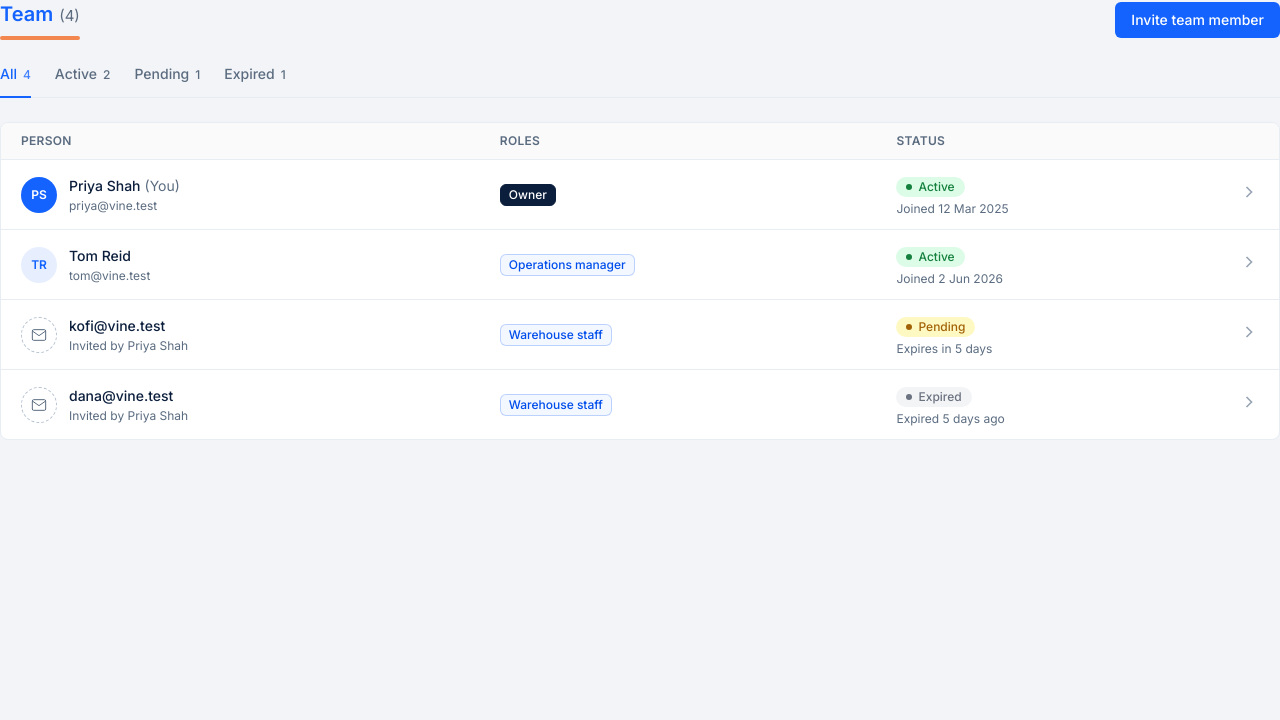
Test case: Team page › invites someone from the header button, and shows them straight away as pending
Click the button "Invite team member": (1198, 20) [1115,2,1279,38]
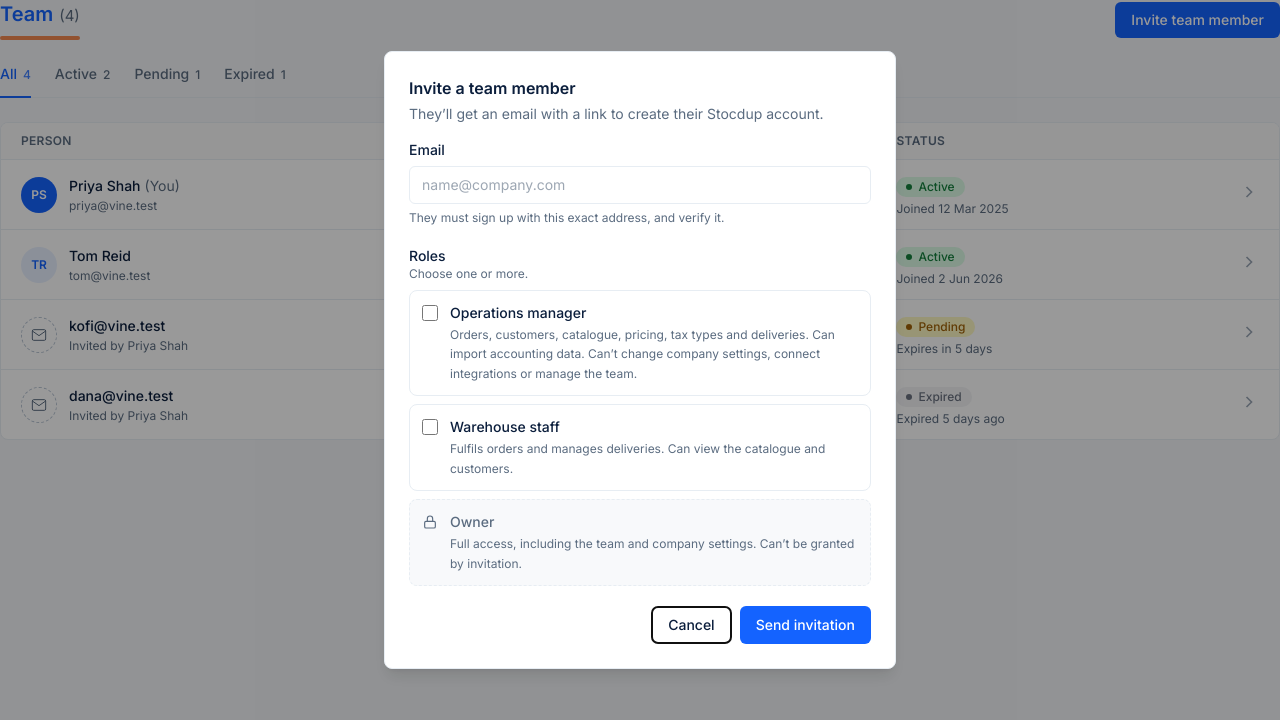
In the field labelled "Email": (640, 185) [409,166,871,204], type "sam@vine.test"
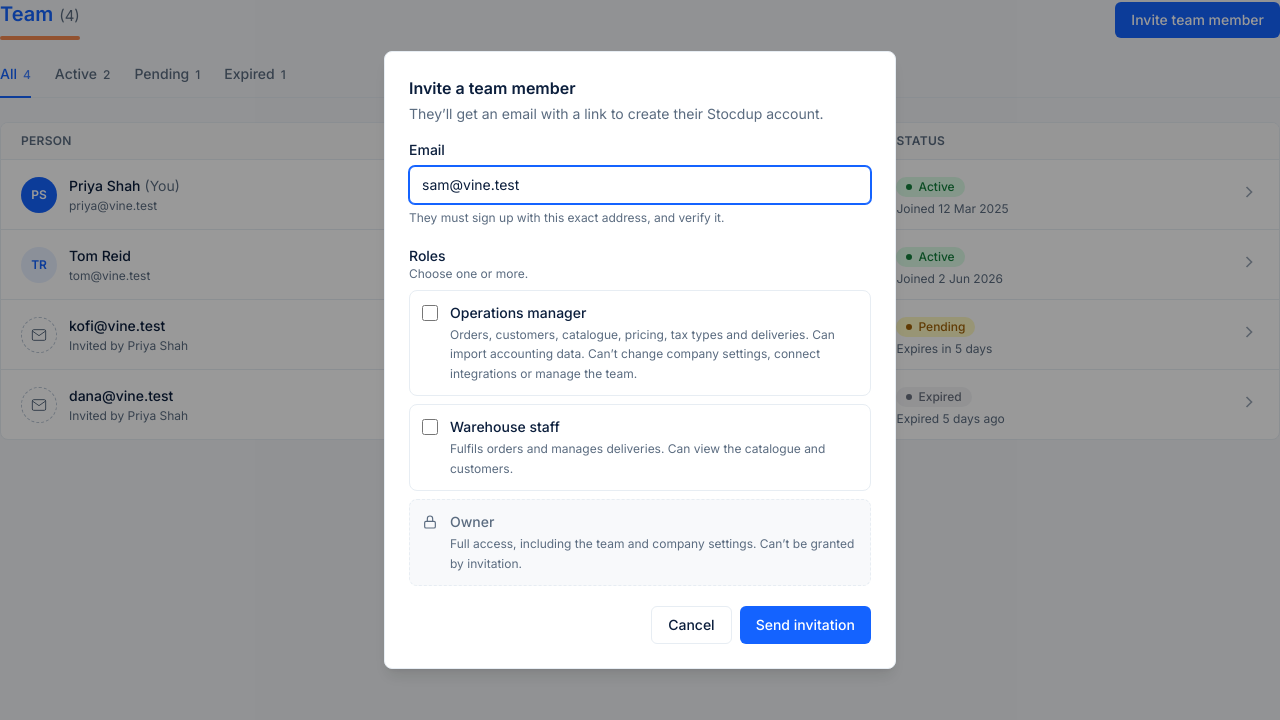
Click the checkbox labelled "Operations manager": (430, 313) [422,305,438,321]
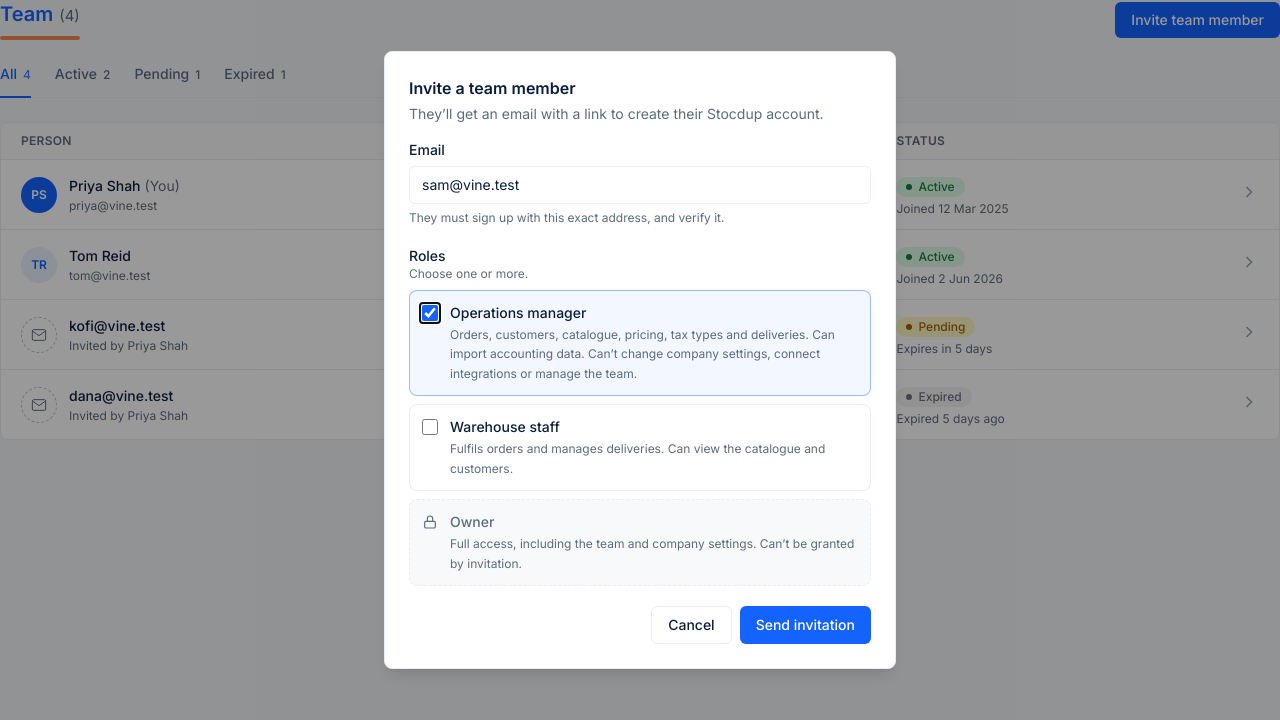
Click the button "Send invitation": (805, 625) [740,606,871,644]
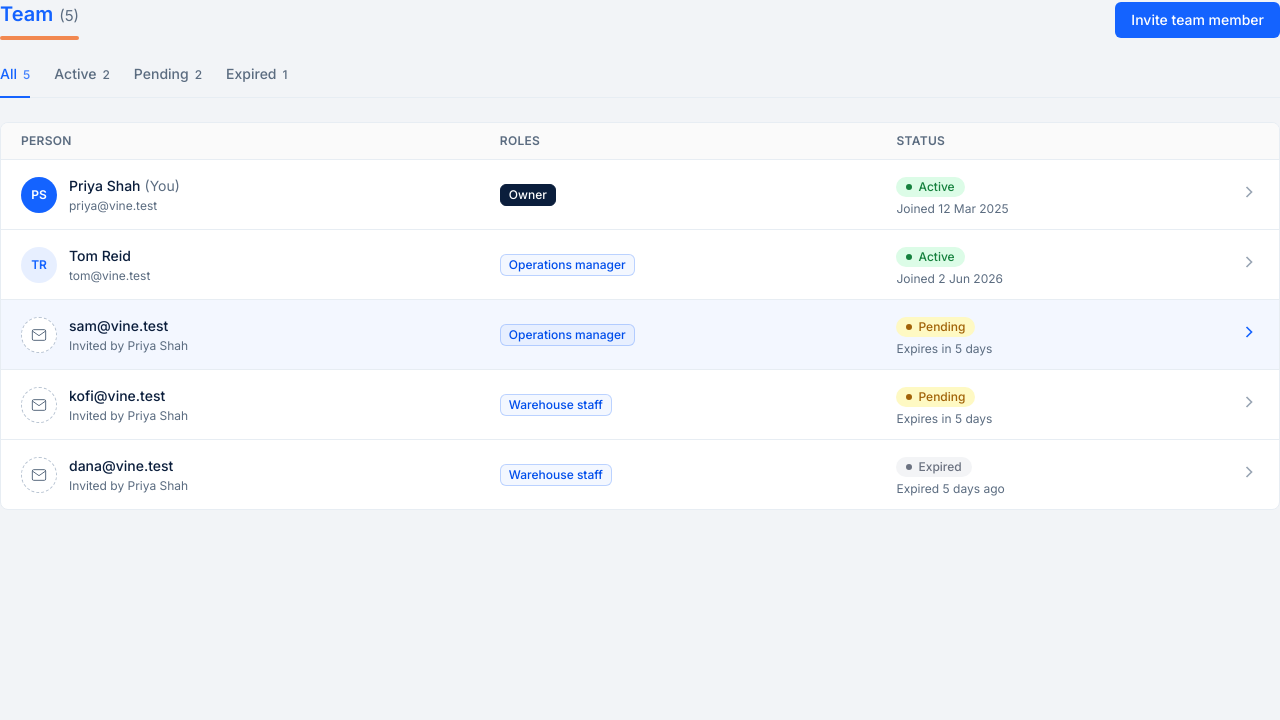
Now the dialog is gone
Now the text "sam@vine.test" is shown, box [69,316,168,334]
